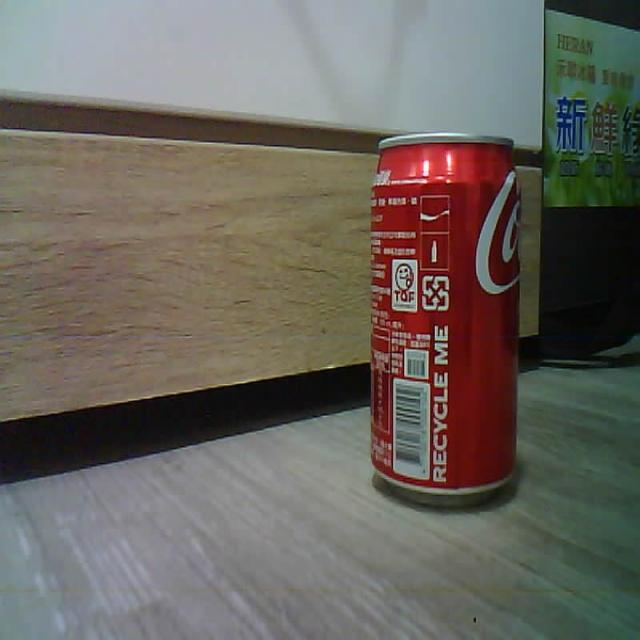can: (370, 132, 520, 502)
